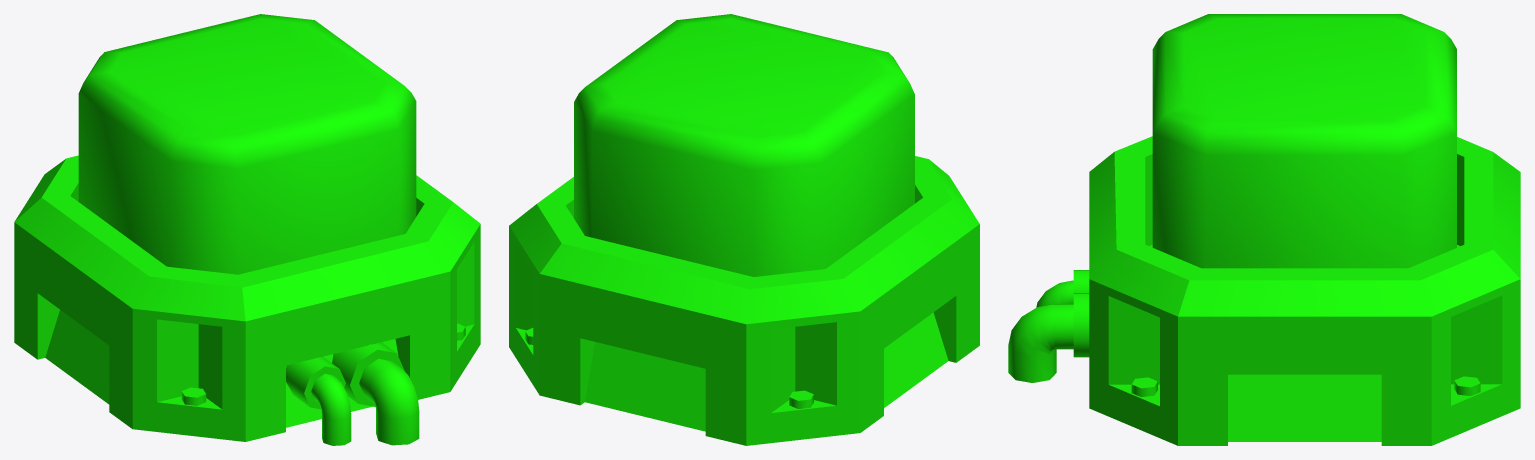
File: M_Prop_Button.FBX
3 views of the same model, side by side, from view 1: azimuth 30°, elevation 25°; view 2: azimuth 150°, elevation 25°; view 3: azimuth 270°, elevation 25° (orthographic). The views are drawn at different scales.
Visible parts, largest first — view 1: M_Prop_Button_Base, M_Prop_Button_Button; view 2: M_Prop_Button_Base, M_Prop_Button_Button; view 3: M_Prop_Button_Base, M_Prop_Button_Button.
Boxes of the visible parts, x1,y1,x2,y2 form: M_Prop_Button_Base: (14,155,480,445); M_Prop_Button_Button: (78,14,416,274); M_Prop_Button_Base: (509,156,979,445); M_Prop_Button_Button: (574,14,914,276); M_Prop_Button_Base: (1008,136,1520,445); M_Prop_Button_Button: (1152,14,1456,268).
Bounding box in the file's own units: 60 × 71.25 × 44.7.
